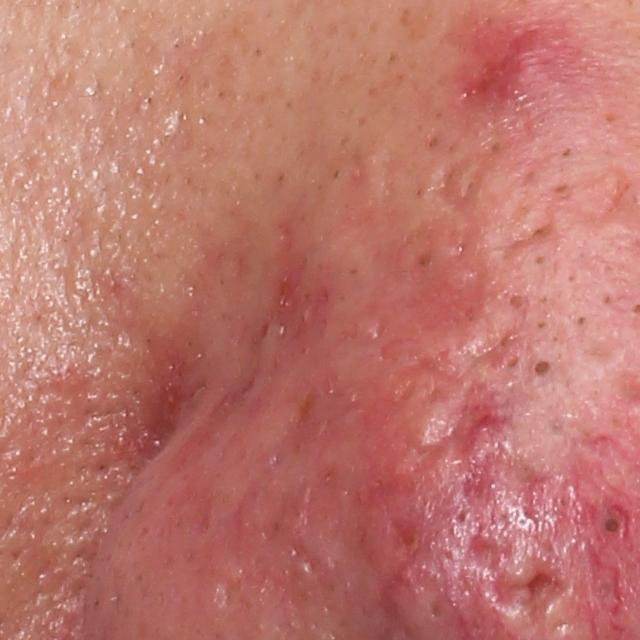atrophic_scar: (381, 383, 515, 494), (386, 304, 522, 404), (466, 534, 570, 628), (399, 255, 492, 333), (424, 152, 498, 231), (489, 458, 564, 534), (502, 217, 561, 258)
comedo: (595, 504, 632, 540), (527, 355, 555, 384)
